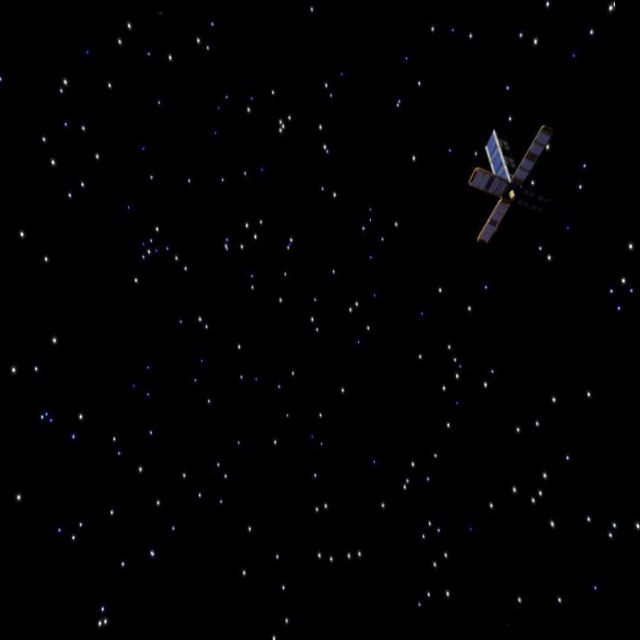satellite: (455, 113, 562, 251)
